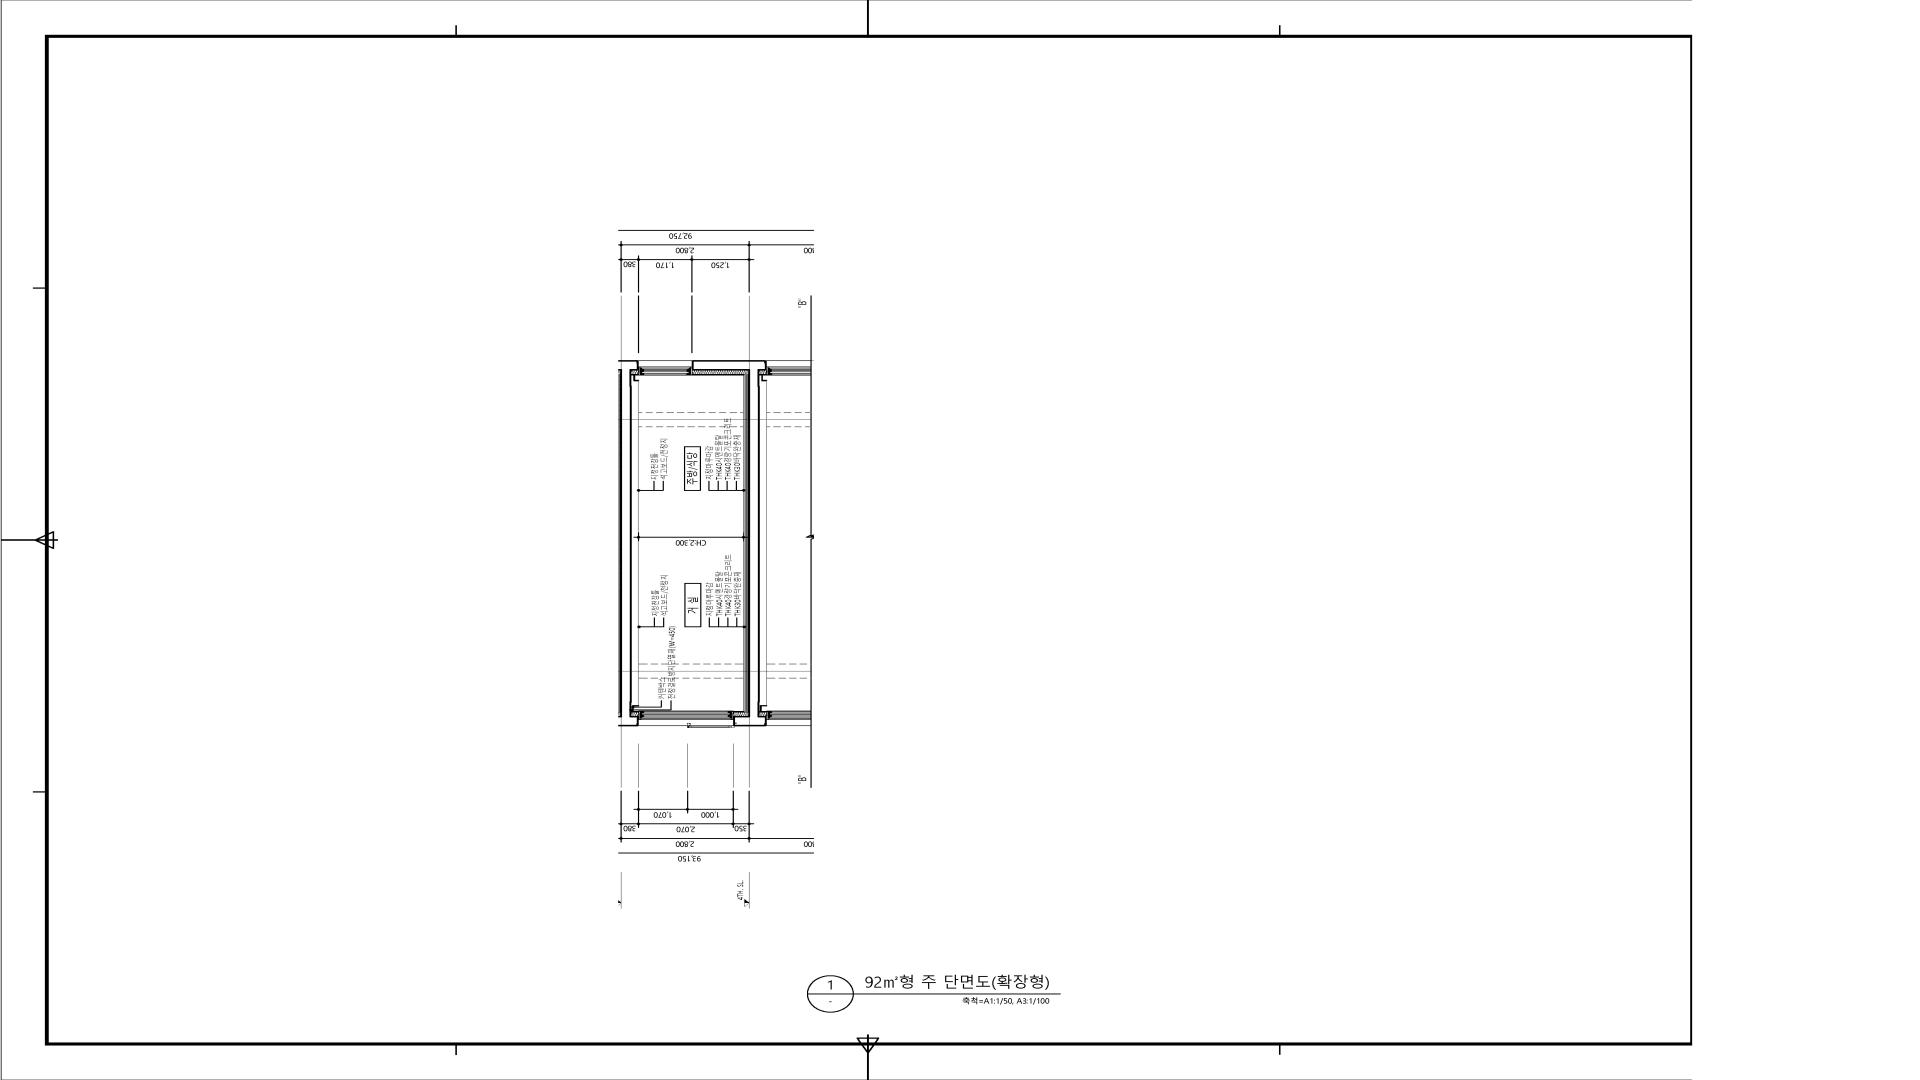background: (1, 0, 1920, 1080)
wall: (692, 360, 759, 726), (620, 360, 639, 726)
window: (638, 711, 734, 726), (638, 360, 692, 376)
